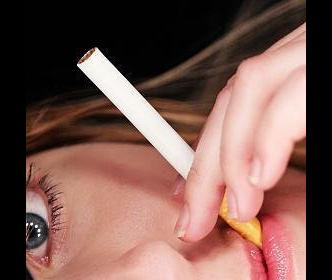Cigarette: (76, 47, 264, 243)
